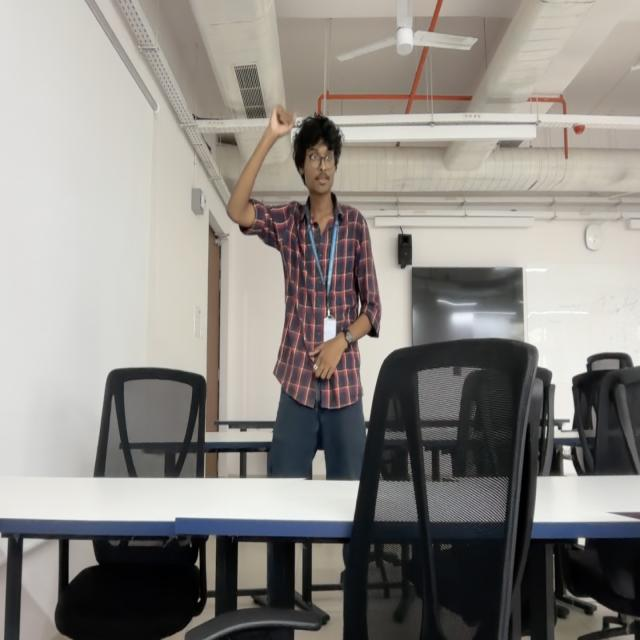darshan: (294, 114, 342, 196)
